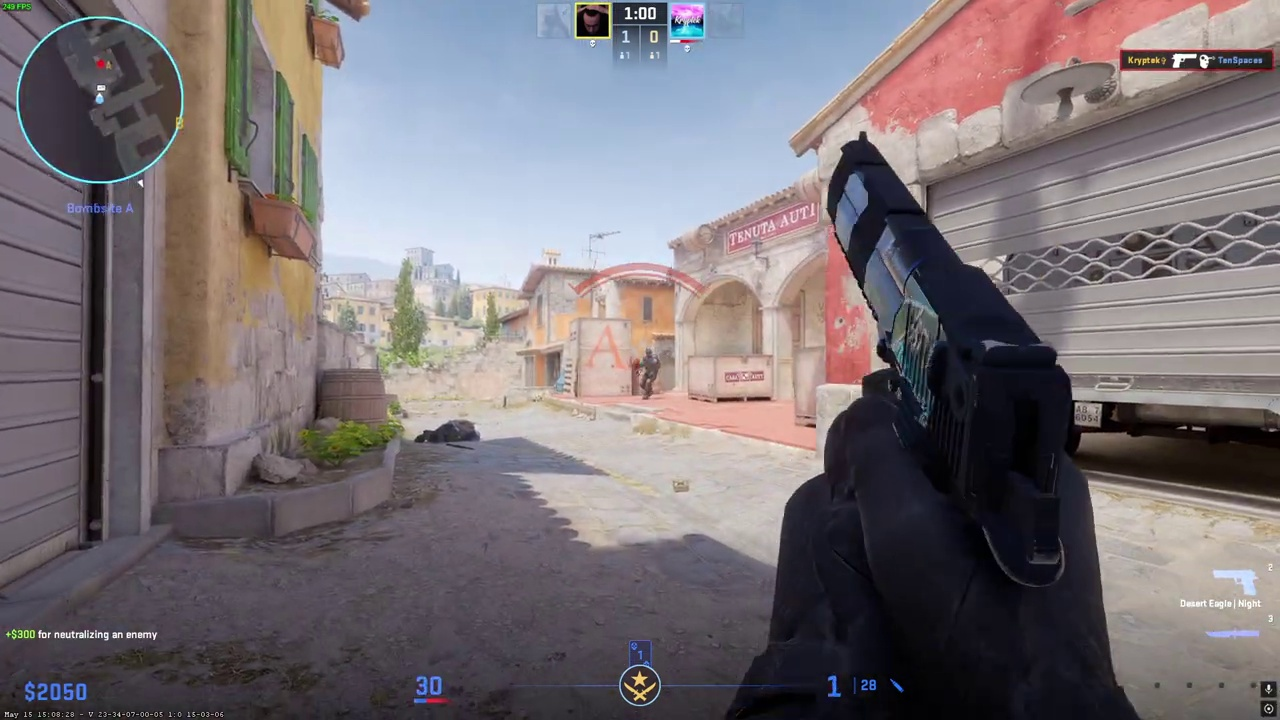CT: (638, 349, 659, 399)
